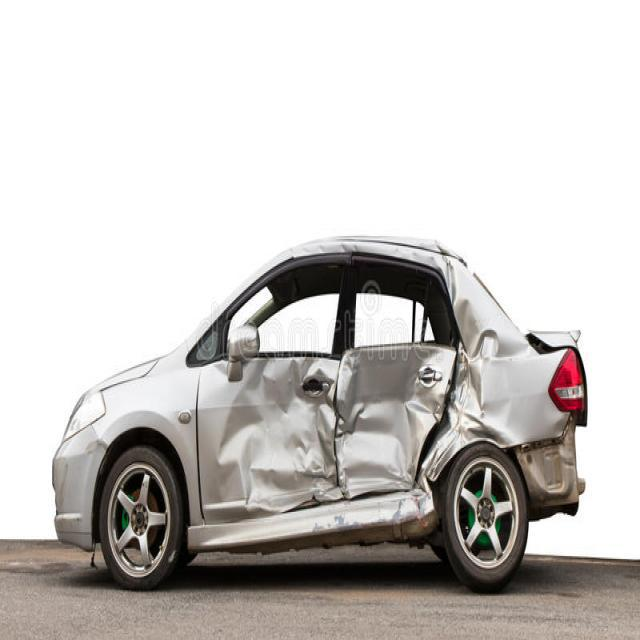RunningBoard-Dent: (190, 504, 352, 551), (330, 501, 441, 546)
doorouter-dent: (202, 343, 336, 516), (332, 341, 451, 502)
quaterpanel-dent: (459, 340, 526, 497)
